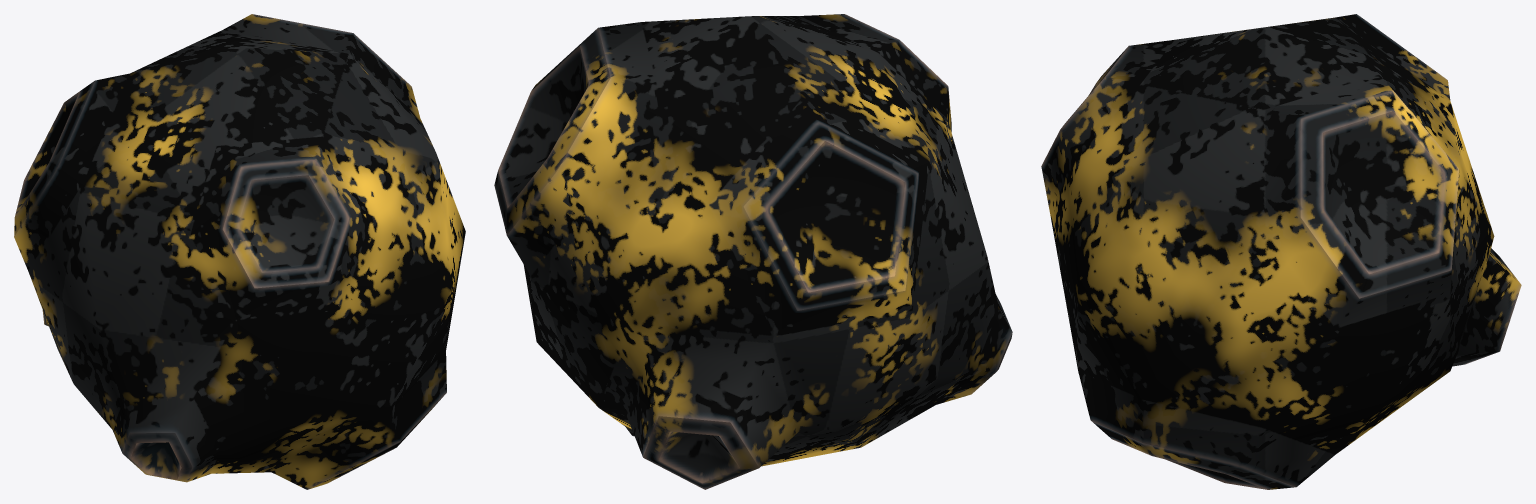
The model's file is Gold.glb.
3 renders of one model, left to right at view 1: azimuth 30°, elevation 25°; view 2: azimuth 150°, elevation 25°; view 3: azimuth 270°, elevation 25°, orthographic. The views are drawn at different scales.
Visible parts, largest first — view 1: Gold; view 2: Gold; view 3: Gold.
Boxes of the visible parts, x1=… form: Gold: x1=14, y1=14, x2=465, y2=489; Gold: x1=494, y1=14, x2=1012, y2=489; Gold: x1=1041, y1=14, x2=1521, y2=489.
Size of the model in its own units: 3.09 by 3.3 by 3.29.
1 material, 1 textured.
